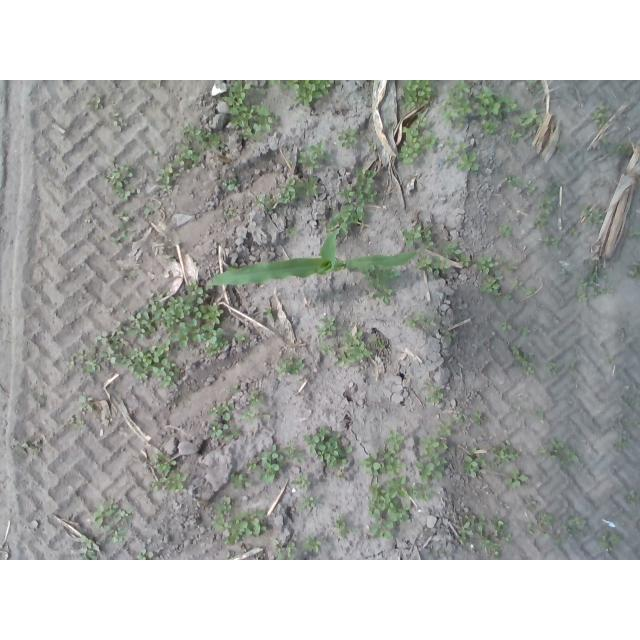Maize: (212, 227, 416, 285)
Weeds: (71, 280, 248, 392), (221, 80, 279, 141), (229, 440, 301, 489), (328, 168, 377, 233), (364, 477, 413, 540), (211, 495, 268, 546), (456, 514, 512, 559), (410, 420, 452, 480), (156, 144, 207, 192), (360, 428, 409, 476), (472, 85, 518, 136), (300, 424, 352, 468), (89, 497, 134, 543), (398, 112, 437, 164), (574, 261, 614, 304), (438, 80, 471, 132), (271, 81, 334, 108), (207, 402, 243, 446), (275, 174, 320, 209), (533, 437, 579, 471), (149, 452, 188, 492), (335, 328, 373, 369), (104, 155, 136, 201), (533, 180, 562, 229), (366, 268, 402, 305), (445, 134, 480, 171), (510, 105, 543, 141), (184, 121, 228, 148), (399, 80, 437, 110), (244, 388, 272, 428), (299, 138, 332, 168), (443, 243, 474, 269), (272, 357, 306, 380), (492, 440, 519, 468), (511, 345, 535, 376), (401, 226, 436, 247), (421, 255, 452, 278), (312, 316, 340, 341), (332, 514, 360, 539), (403, 312, 441, 330), (463, 447, 485, 478), (110, 226, 137, 251), (479, 272, 506, 297), (273, 537, 299, 560), (337, 126, 360, 151), (562, 516, 588, 538), (579, 205, 602, 228), (599, 531, 622, 554), (408, 482, 437, 500), (424, 378, 444, 404), (79, 536, 99, 561), (474, 254, 498, 274), (12, 439, 42, 455), (592, 100, 608, 129), (107, 111, 127, 134), (291, 470, 312, 490), (505, 469, 528, 487), (302, 535, 323, 554), (77, 391, 94, 412), (255, 193, 274, 211), (86, 94, 106, 111), (525, 80, 544, 97), (297, 496, 316, 513), (535, 511, 553, 528), (505, 174, 524, 190), (539, 235, 562, 247), (627, 215, 640, 236), (69, 415, 84, 433), (523, 495, 537, 514), (318, 341, 335, 356), (471, 410, 486, 427), (611, 439, 629, 453), (222, 177, 238, 192), (36, 386, 48, 406), (263, 307, 277, 324), (627, 259, 640, 277), (544, 532, 563, 544), (135, 548, 154, 560), (496, 225, 512, 238), (525, 184, 540, 197), (626, 491, 639, 506), (522, 522, 534, 538), (616, 140, 629, 154), (146, 149, 159, 163), (371, 337, 386, 349), (225, 382, 240, 394), (367, 136, 378, 152), (532, 408, 545, 421), (600, 137, 612, 151), (223, 206, 237, 218), (118, 213, 134, 223), (283, 228, 299, 238), (337, 471, 348, 485), (587, 179, 605, 187), (513, 278, 525, 290), (442, 331, 455, 342), (142, 207, 154, 218), (522, 327, 534, 338), (568, 227, 581, 237), (452, 413, 465, 423), (565, 359, 577, 369), (500, 322, 512, 332), (150, 80, 163, 89), (603, 353, 614, 363), (545, 360, 555, 371), (557, 141, 567, 151), (508, 264, 518, 273), (226, 550, 235, 560), (618, 329, 626, 340), (527, 288, 536, 297), (96, 236, 105, 244), (561, 268, 568, 278), (629, 400, 637, 408), (504, 294, 513, 300), (89, 225, 95, 233), (85, 217, 91, 224)
